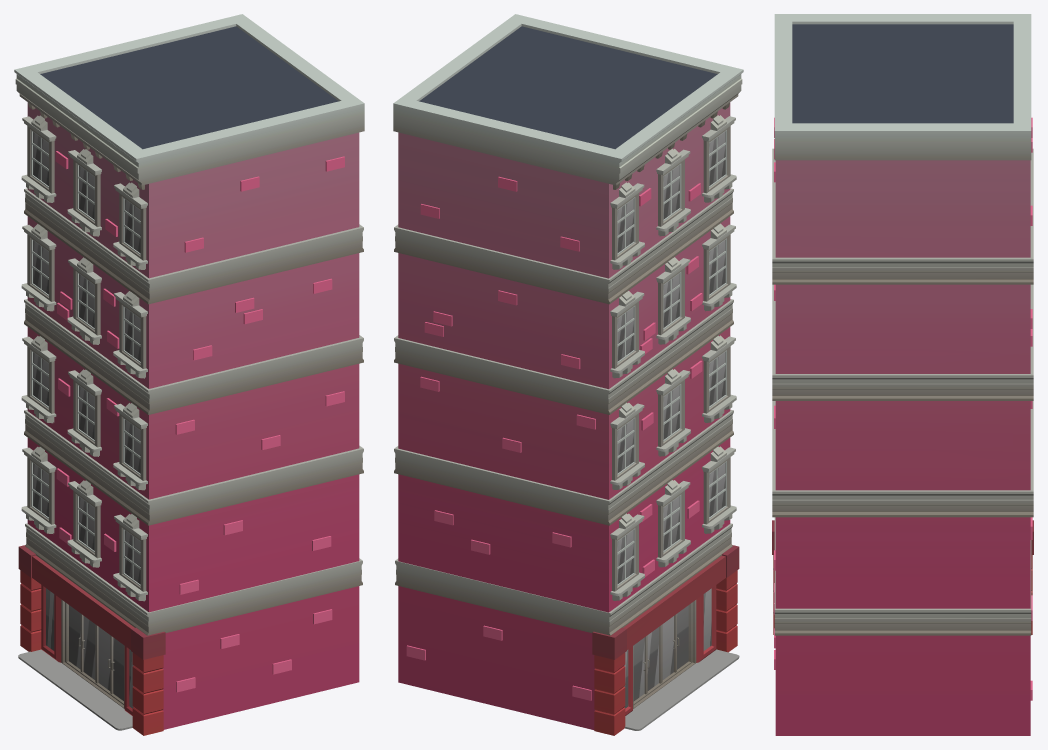
File: Building_21_1_C.fbx
3 views of the same model, side by side, from view 1: azimuth 30°, elevation 25°; view 2: azimuth 150°, elevation 25°; view 3: azimuth 270°, elevation 25° (orthographic). The views are drawn at different scales.
Parts seen in each view (by area): view 1: Building_21_1_C; view 2: Building_21_1_C; view 3: Building_21_1_C.
Boxes of the visible parts, x1,y1,x2,y2 form: Building_21_1_C: [14, 14, 364, 735]; Building_21_1_C: [393, 14, 743, 735]; Building_21_1_C: [772, 14, 1033, 735].
Size of the model in its own units: 779 by 1825 by 713.
